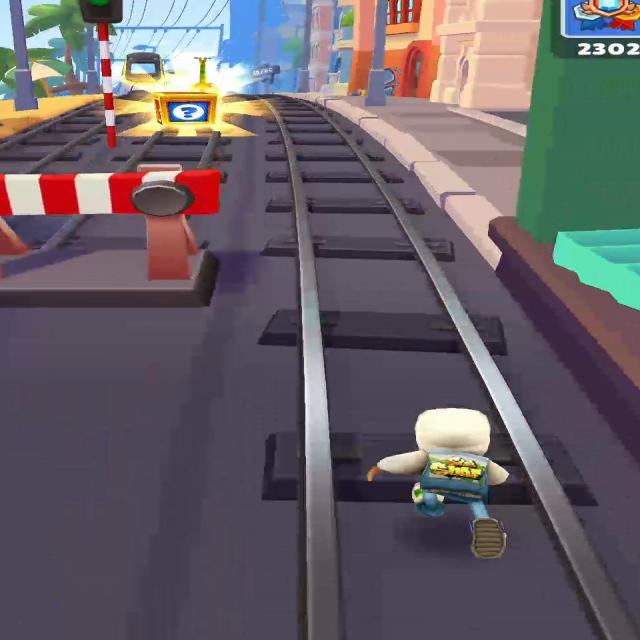blocker: (0, 166, 219, 280)
train: (123, 52, 163, 85)
